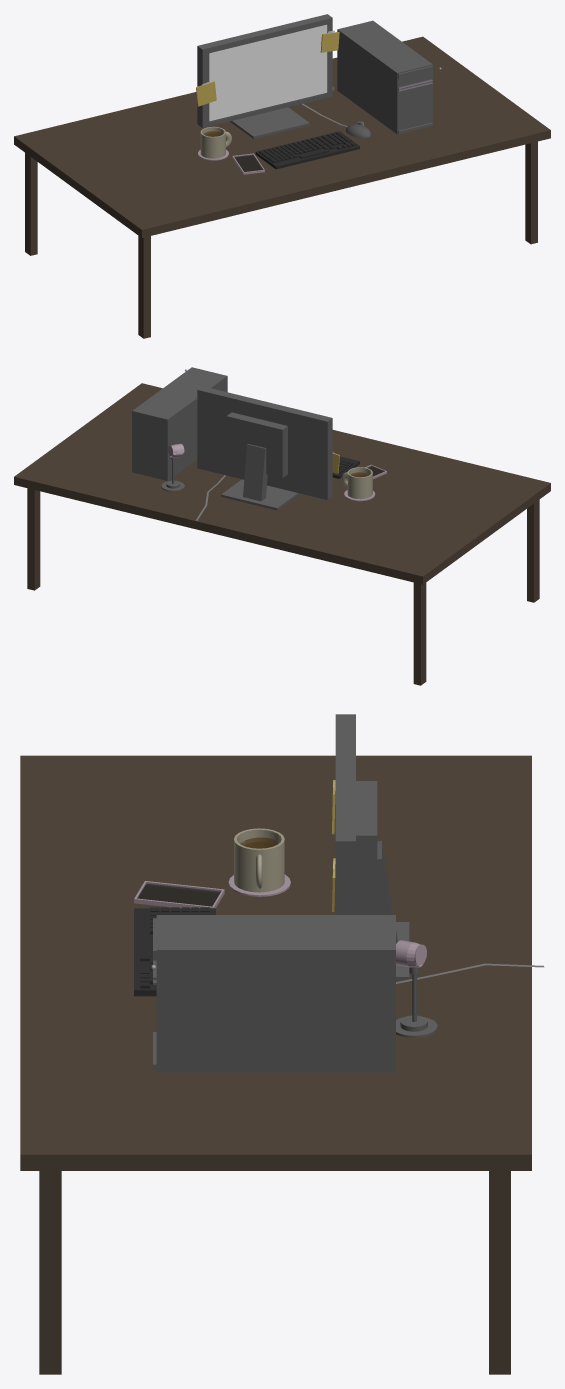
The model's file is ComputerUI.fbx.
3 views of the same model, one above another, from view 1: azimuth 30°, elevation 25°; view 2: azimuth 150°, elevation 25°; view 3: azimuth 270°, elevation 25° (orthographic). The views are drawn at different scales.
Parts seen in each view (by area): view 1: pCube1, pCube6, pCube12, pCube10, pCube9, pCube2, pCube4, pCube3, pCylinder2, pCube11, pCube13; view 2: pCube1, pCube6, pCube12, pCube7, pCube3, pCube5, pCube2, pCube8, pCube9, pCylinder2; view 3: pCube1, pCube12, pCube4, pCube5, pCube6, pCube7, pCylinder2, pCube10, pCube11, pCube8.
Part boxes in pixels (box(x1,y1,x2,y2)): pCube1: box(14, 36, 550, 237); pCube6: box(197, 14, 332, 127); pCube12: box(337, 20, 432, 134); pCube10: box(255, 131, 359, 169); pCube9: box(230, 107, 309, 138); pCube2: box(138, 236, 150, 338); pCube4: box(525, 141, 537, 244); pCube3: box(25, 153, 37, 255); pCylinder2: box(200, 126, 225, 158); pCube11: box(232, 153, 264, 174); pCube13: box(196, 81, 216, 106); pCube1: box(14, 383, 550, 584); pCube6: box(197, 386, 332, 499); pCube12: box(132, 367, 227, 480); pCube7: box(226, 412, 287, 478); pCube3: box(413, 582, 426, 685); pCube5: box(27, 488, 40, 590); pCube2: box(527, 499, 539, 602); pCube8: box(243, 444, 267, 501); pCube9: box(221, 479, 299, 510); pCylinder2: box(347, 467, 372, 499); pCube1: box(20, 755, 531, 1170); pCube12: box(153, 915, 395, 1072); pCube4: box(39, 1171, 61, 1374); pCube5: box(489, 1171, 510, 1374); pCube6: box(335, 714, 355, 914); pCube7: box(356, 781, 377, 914); pCylinder2: box(234, 828, 284, 892); pCube10: box(134, 907, 215, 996); pCube11: box(134, 881, 224, 908); pCube8: box(377, 841, 397, 943).
Bounding box in the file's own units: 7.28 × 3.45 × 4.04.
